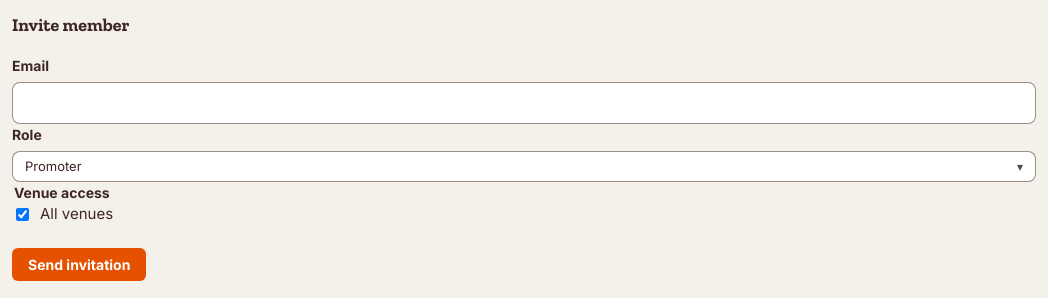
InviteMemberForm › disables submit while invitation request is pending
This screenshot has width=1048, height=298.
Type "new@example.com" into the field labelled "Email". click: (524, 103)
box: [12,82,1036,124]
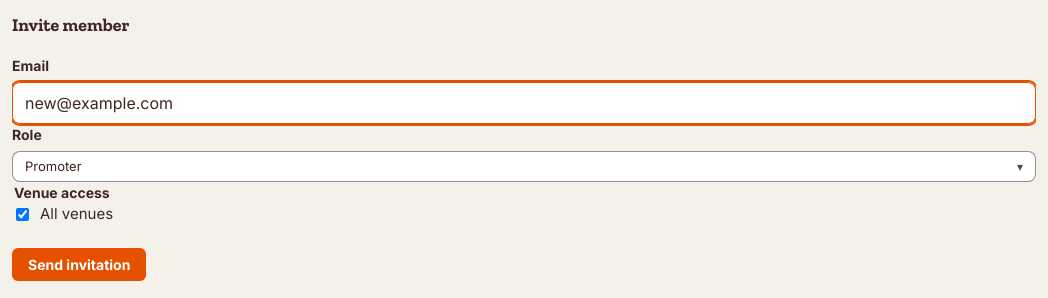
Click the button with test id "invite-member-submit". click: click(79, 264)
box: [12,248,146,280]
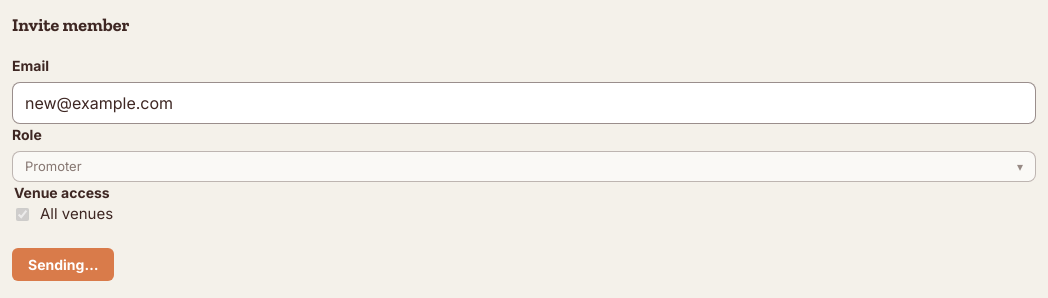
Check: the button with test id "invite-member-submit" is disabled, box [12,248,114,280]
